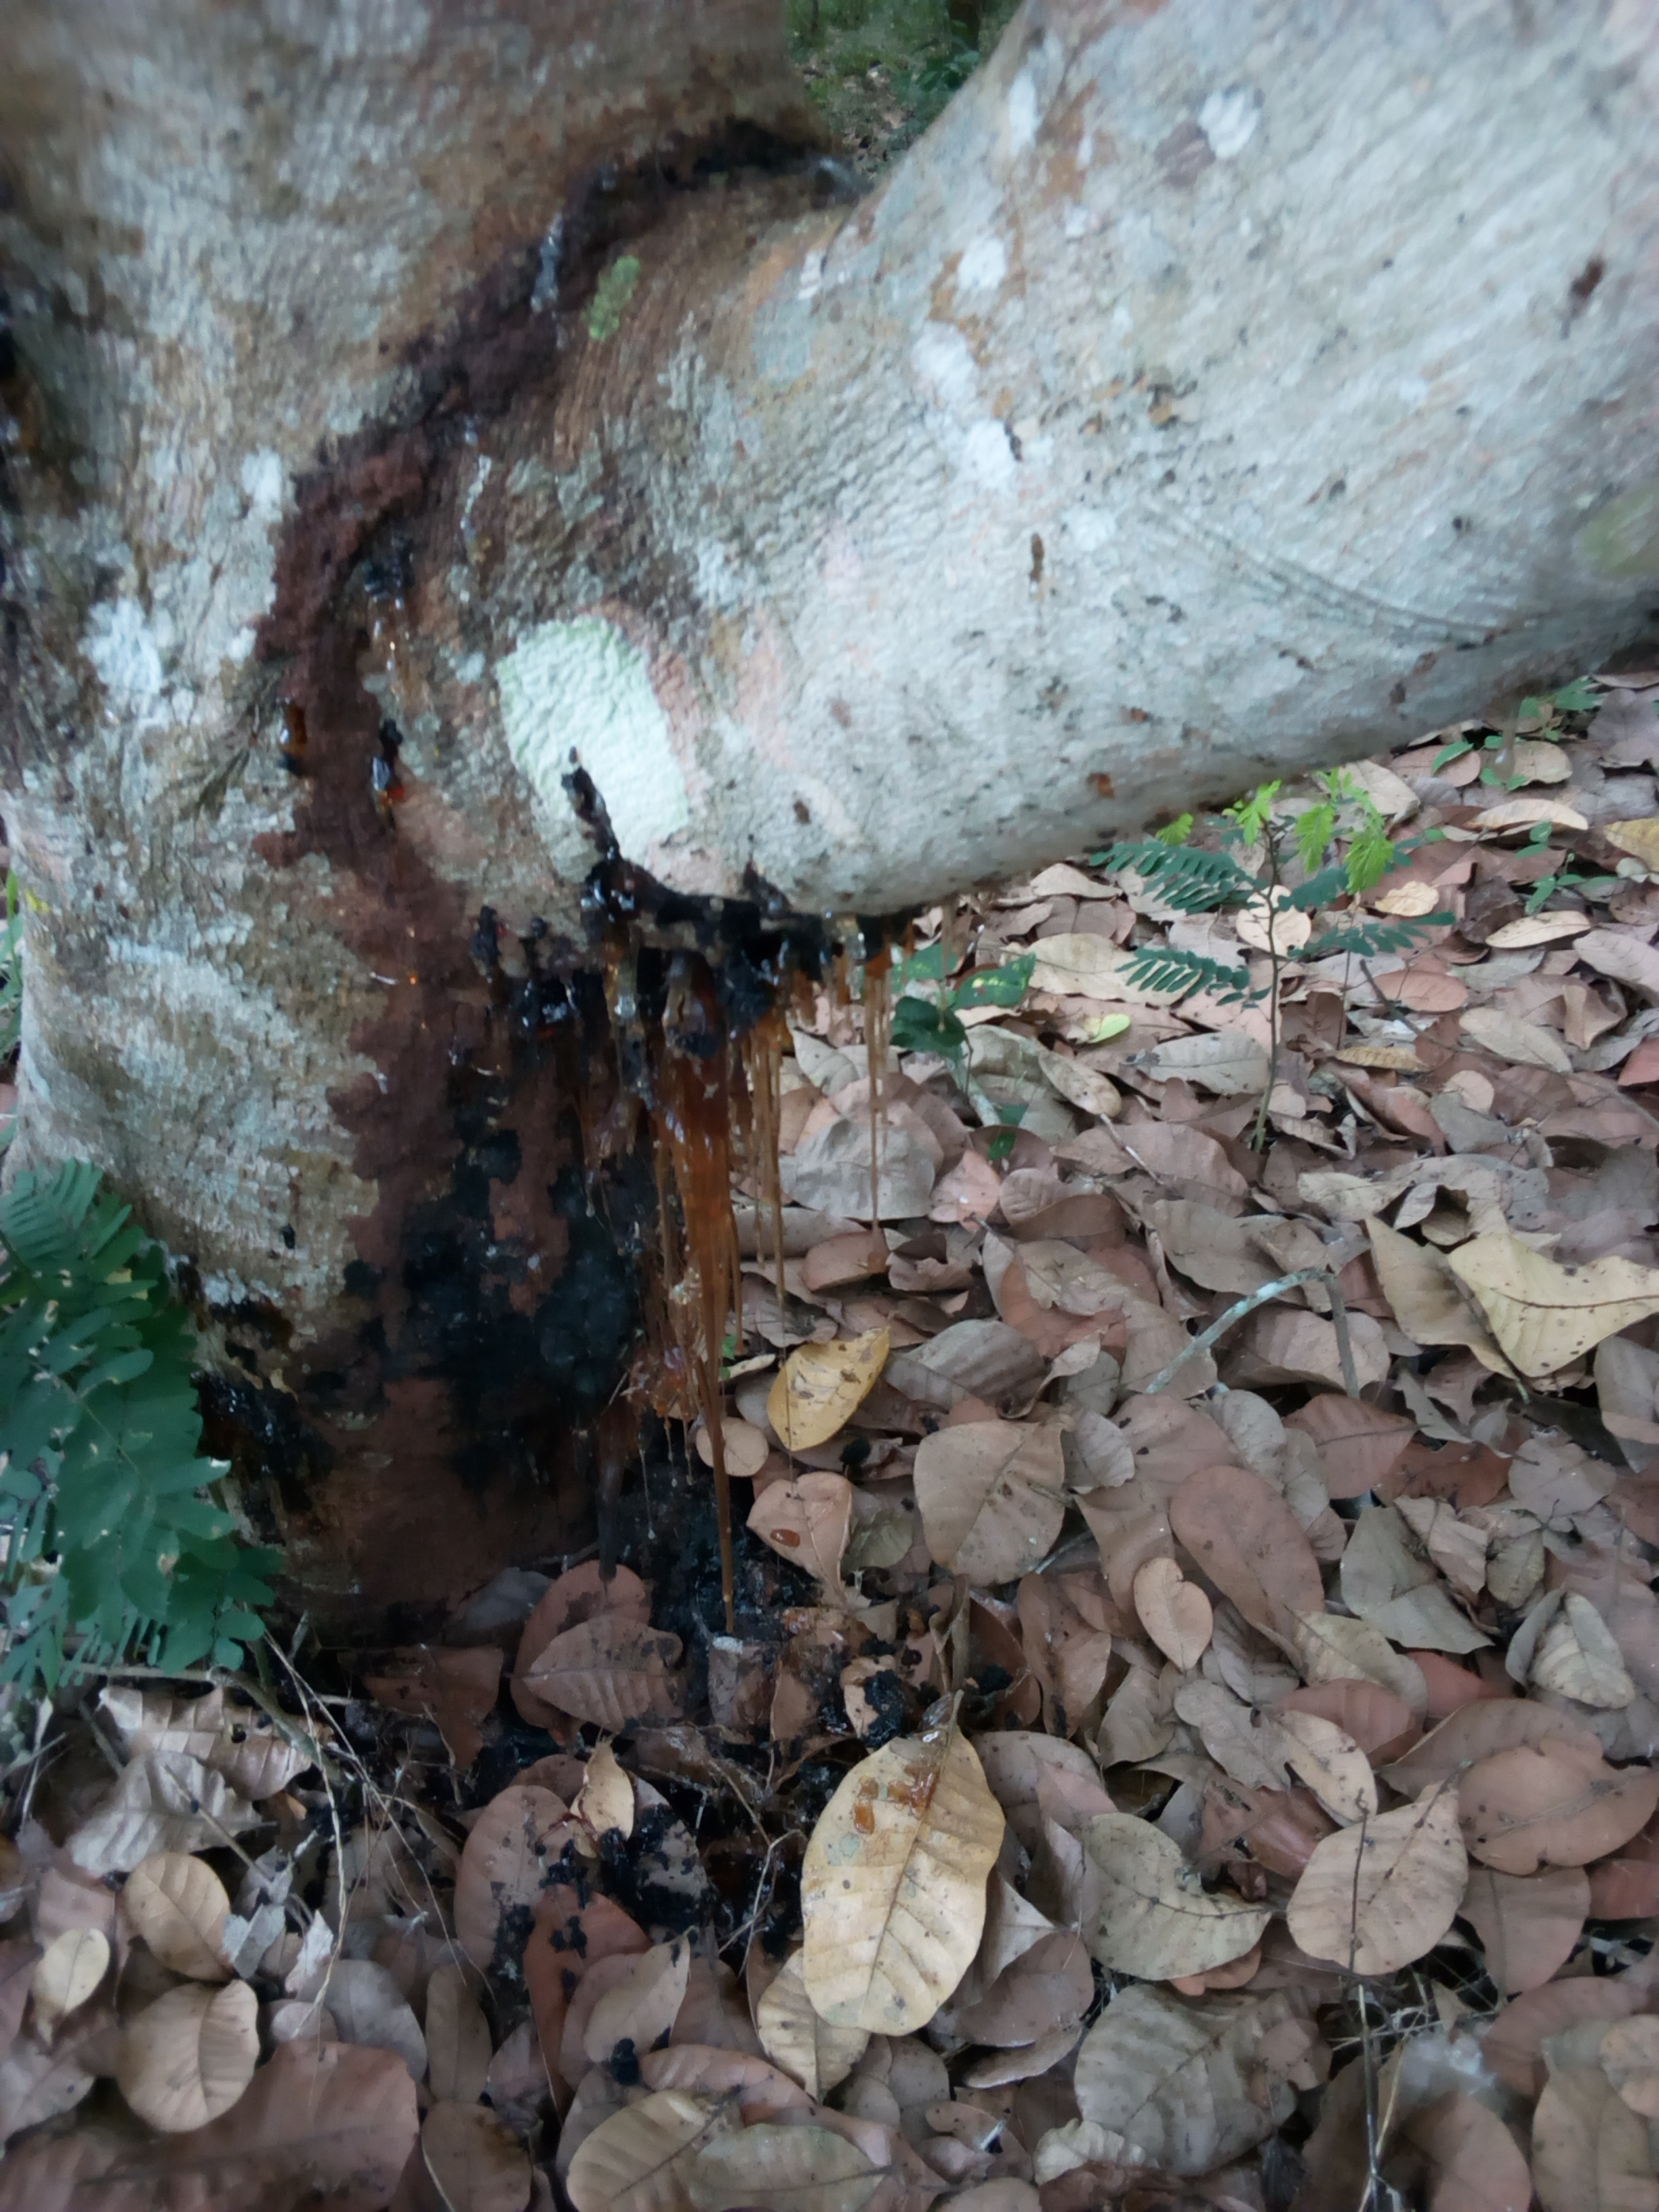Gommose: (494, 828, 911, 1655), (355, 93, 782, 591)
